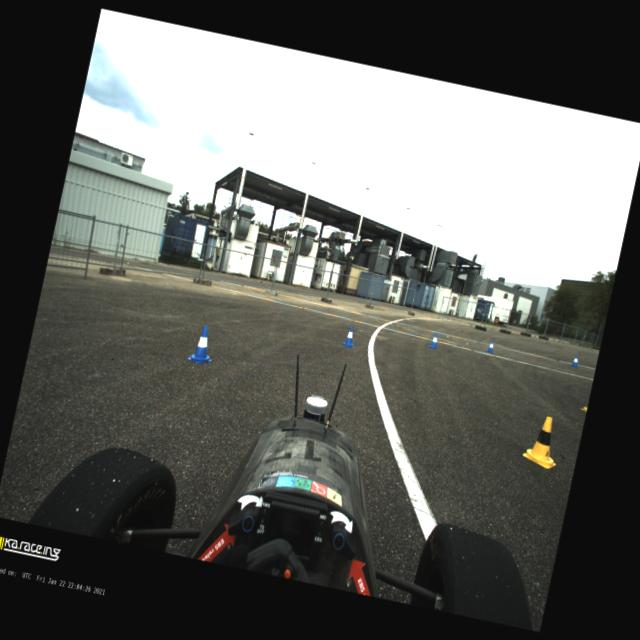blue_cone: (187, 323, 218, 365), (342, 324, 358, 348), (428, 332, 440, 348), (486, 339, 496, 353), (570, 354, 580, 367)
yellow_cone: (520, 412, 564, 470)
